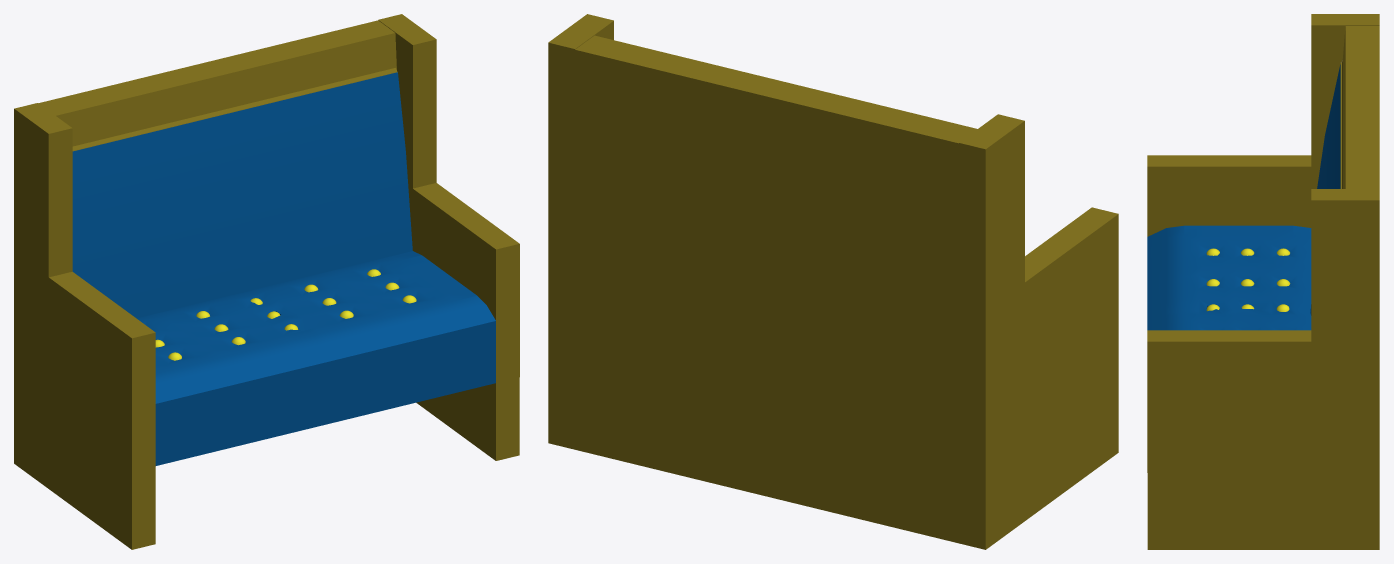
The model's file is fancy-chair.fbx.
The picture shows the model from 3 angles, left to right: view 1: azimuth 30°, elevation 25°; view 2: azimuth 150°, elevation 25°; view 3: azimuth 270°, elevation 25°; orthographic projection. The views are drawn at different scales.
Parts seen in each view (by area): view 1: pCube1; view 2: pCube1; view 3: pCube1.
Boxes of the visible parts, left/top/right/bottom form: pCube1: left=14, top=14, right=519, bottom=549; pCube1: left=548, top=14, right=1118, bottom=549; pCube1: left=1147, top=14, right=1379, bottom=549.
Bounding box in the file's own units: 1.14 × 0.9972 × 0.6.
